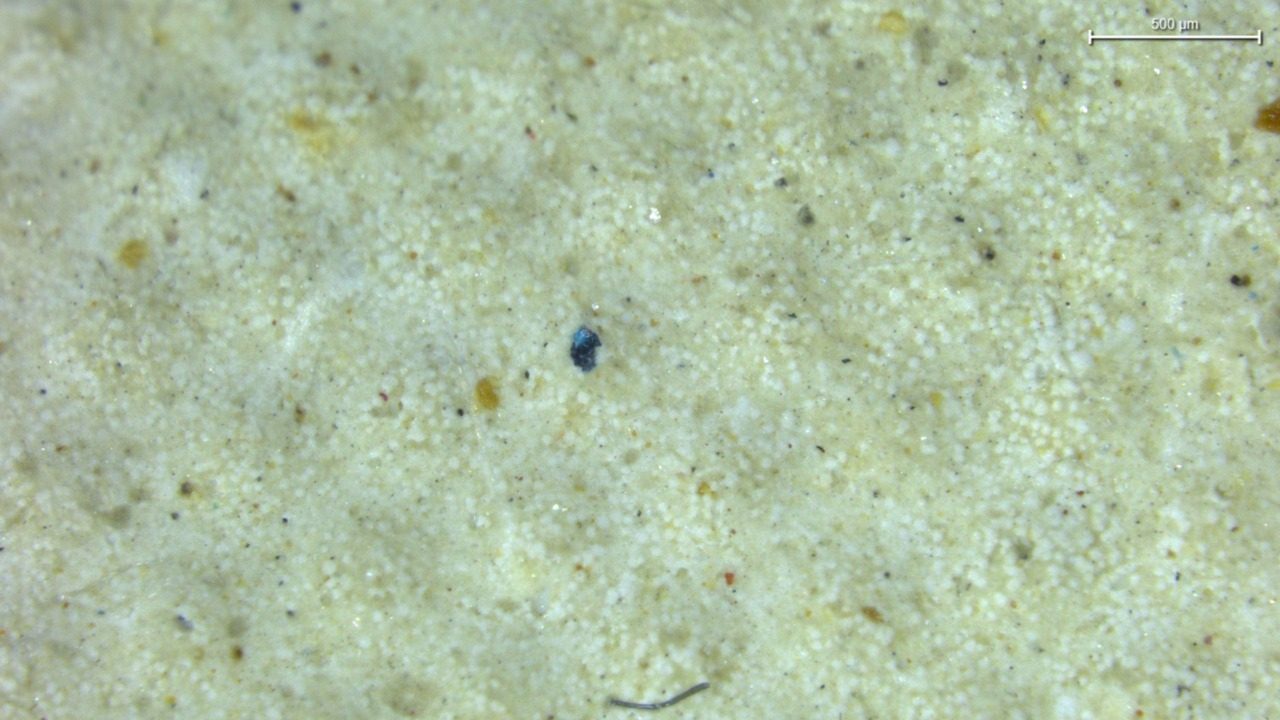microplastic_fragment: (570, 326, 601, 372)
